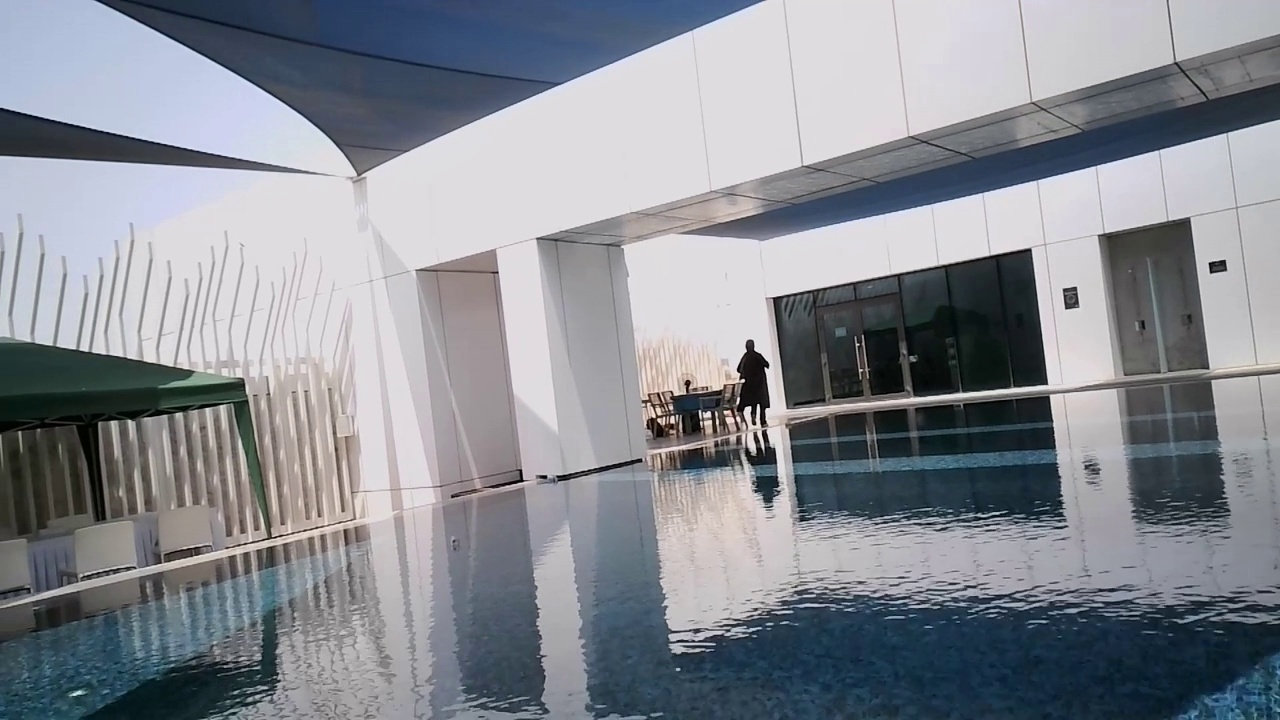debris: (447, 531, 459, 551), (541, 470, 557, 483), (947, 399, 962, 411)
